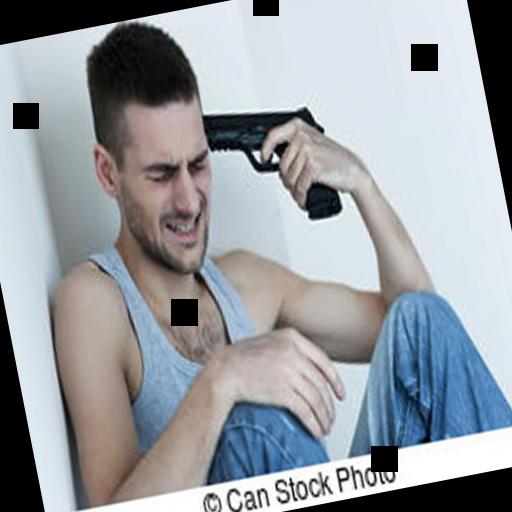Handgun: (196, 84, 340, 238)
